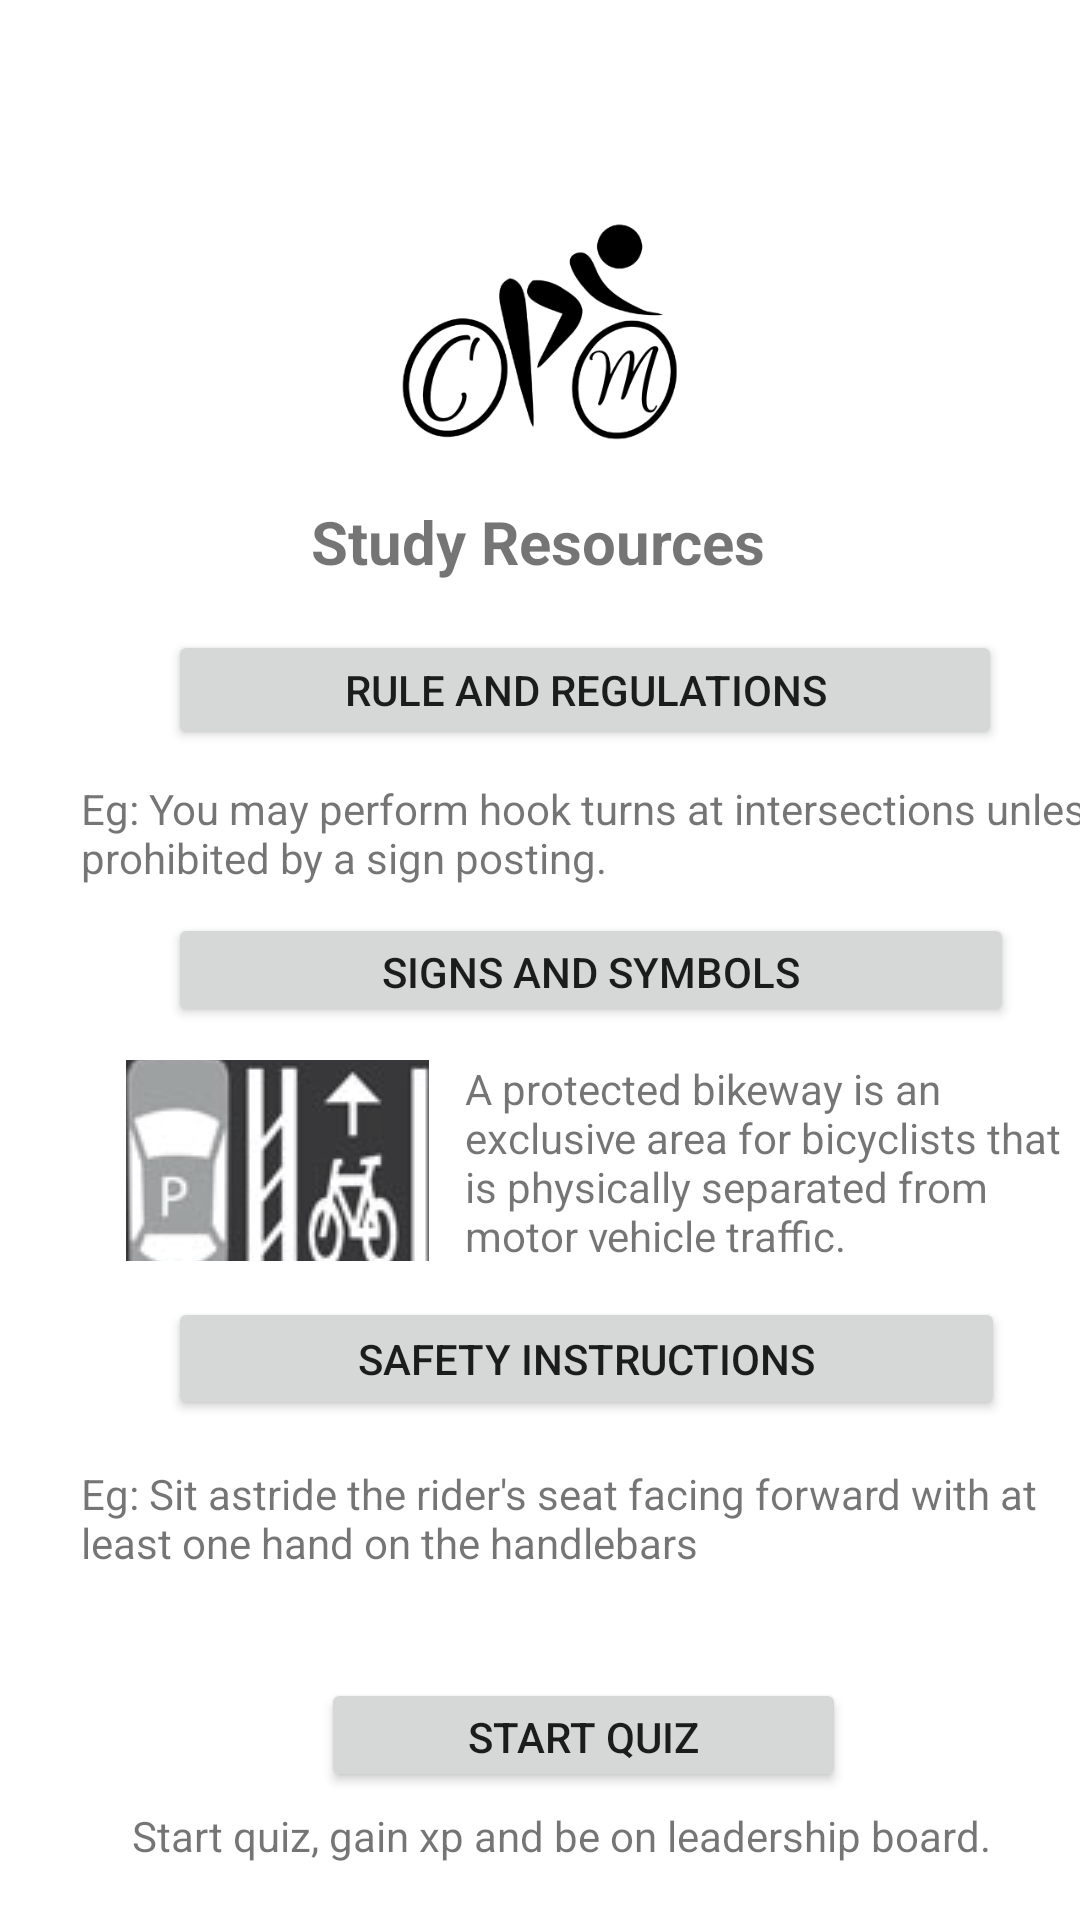

Where icons sit on this 1080*1920 app screen, as (x1, y1, x2, y2):
pbikelane: (126, 1060, 429, 1261)
